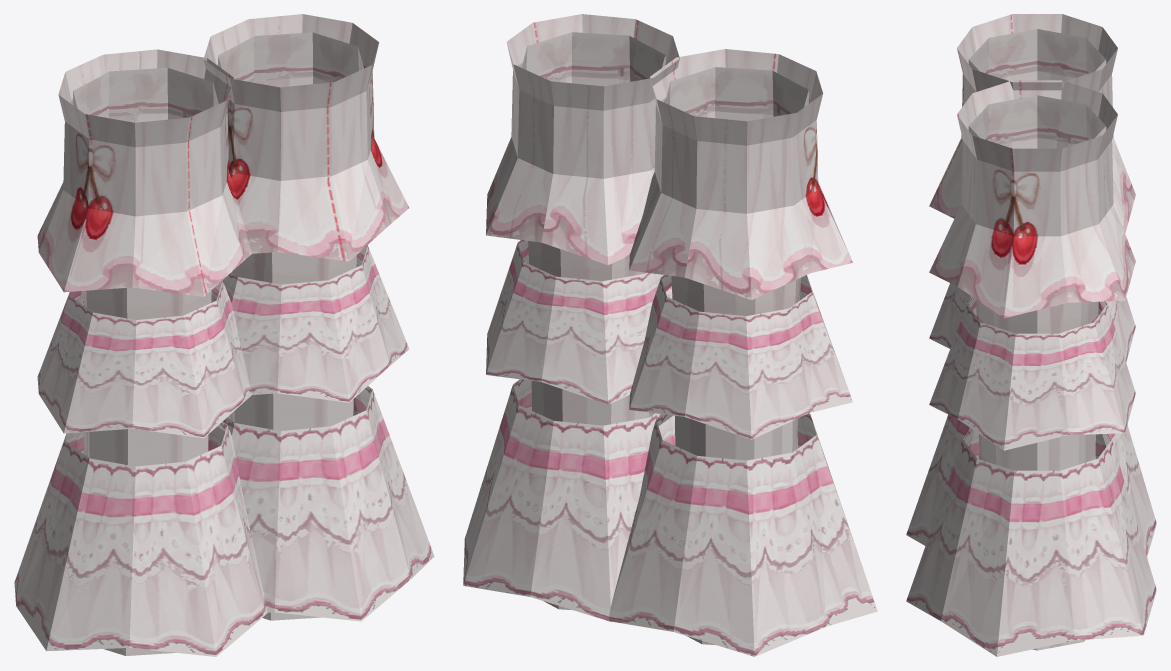
The model's file is outfit_legwear.obj.
3 views of the same model, side by side, from view 1: azimuth 30°, elevation 25°; view 2: azimuth 150°, elevation 25°; view 3: azimuth 270°, elevation 25° (orthographic). The views are drawn at different scales.
Parts seen in each view (by area): view 1: legwear_ruffles_knee_R, legwear_ruffles_knee_L, legwear_sock_knee_R, legwear_sock_knee_L; view 2: legwear_ruffles_knee_R, legwear_ruffles_knee_L, legwear_sock_knee_R, legwear_sock_knee_L; view 3: legwear_ruffles_knee_L, legwear_ruffles_knee_R, legwear_sock_knee_L, legwear_sock_knee_R.
Part boxes in pixels (<box>): legwear_ruffles_knee_R: <box>14,49,267,656</box>; legwear_ruffles_knee_L: <box>203,14,434,621</box>; legwear_sock_knee_R: <box>72,67,218,655</box>; legwear_sock_knee_L: <box>218,32,363,620</box>; legwear_ruffles_knee_R: <box>606,49,877,656</box>; legwear_ruffles_knee_L: <box>463,14,679,621</box>; legwear_sock_knee_R: <box>665,67,808,644</box>; legwear_sock_knee_L: <box>521,32,665,610</box>; legwear_ruffles_knee_L: <box>906,80,1156,656</box>; legwear_ruffles_knee_R: <box>906,14,1156,556</box>; legwear_sock_knee_L: <box>968,95,1106,650</box>; legwear_sock_knee_R: <box>968,29,1106,81</box>.
Bounding box in the file's own units: 0.2674 × 0.356 × 0.1596.
1 material, 1 textured.
